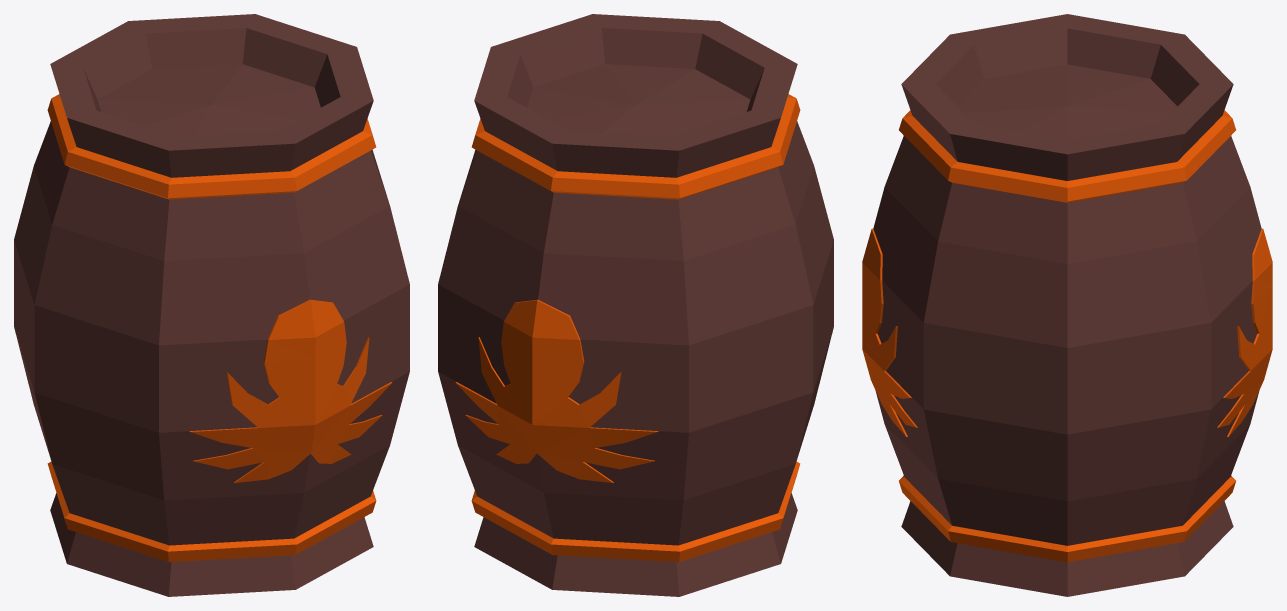
Rendered from GEO_barrel_octopus.fbx.
3 views of the same model, side by side, from view 1: azimuth 30°, elevation 25°; view 2: azimuth 150°, elevation 25°; view 3: azimuth 270°, elevation 25° (orthographic).
Parts seen in each view (by area): view 1: GEO_barrel_octopus; view 2: GEO_barrel_octopus; view 3: GEO_barrel_octopus.
Part boxes in pixels (x1=…): GEO_barrel_octopus: x1=14, y1=14, x2=409, y2=596; GEO_barrel_octopus: x1=438, y1=14, x2=833, y2=596; GEO_barrel_octopus: x1=862, y1=14, x2=1272, y2=596.
Bounding box in the file's own units: 102 × 123 × 103.
